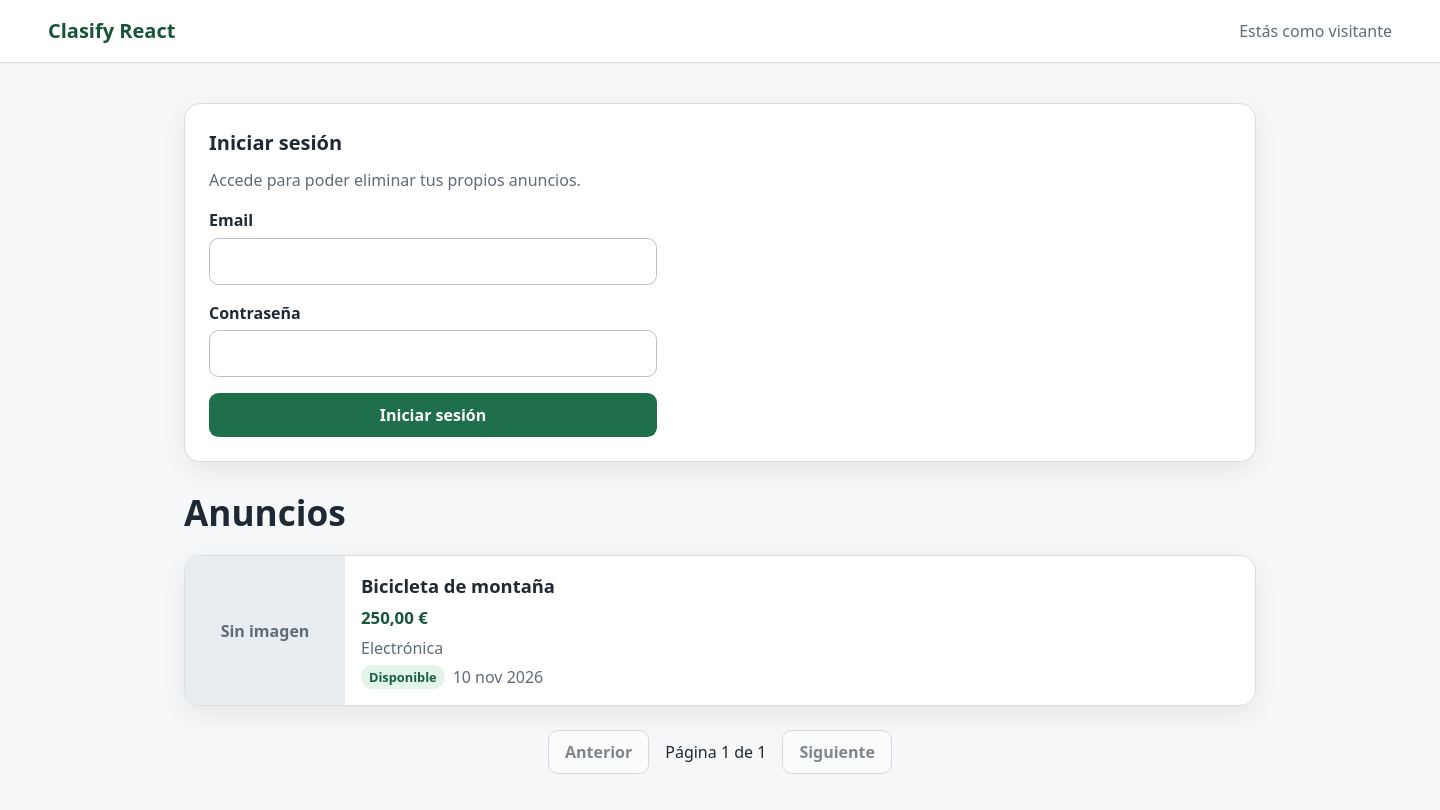
Test: sesión del frontend React › inicia sesión y guarda el token
This screenshot has width=1440, height=810.
Expected: the heading "Bicicleta de montaña" is shown, 361,573 -> 555,598
Type "ana@example.com" into the field labelled "Email" at (433,261), box 209,238 -> 657,285
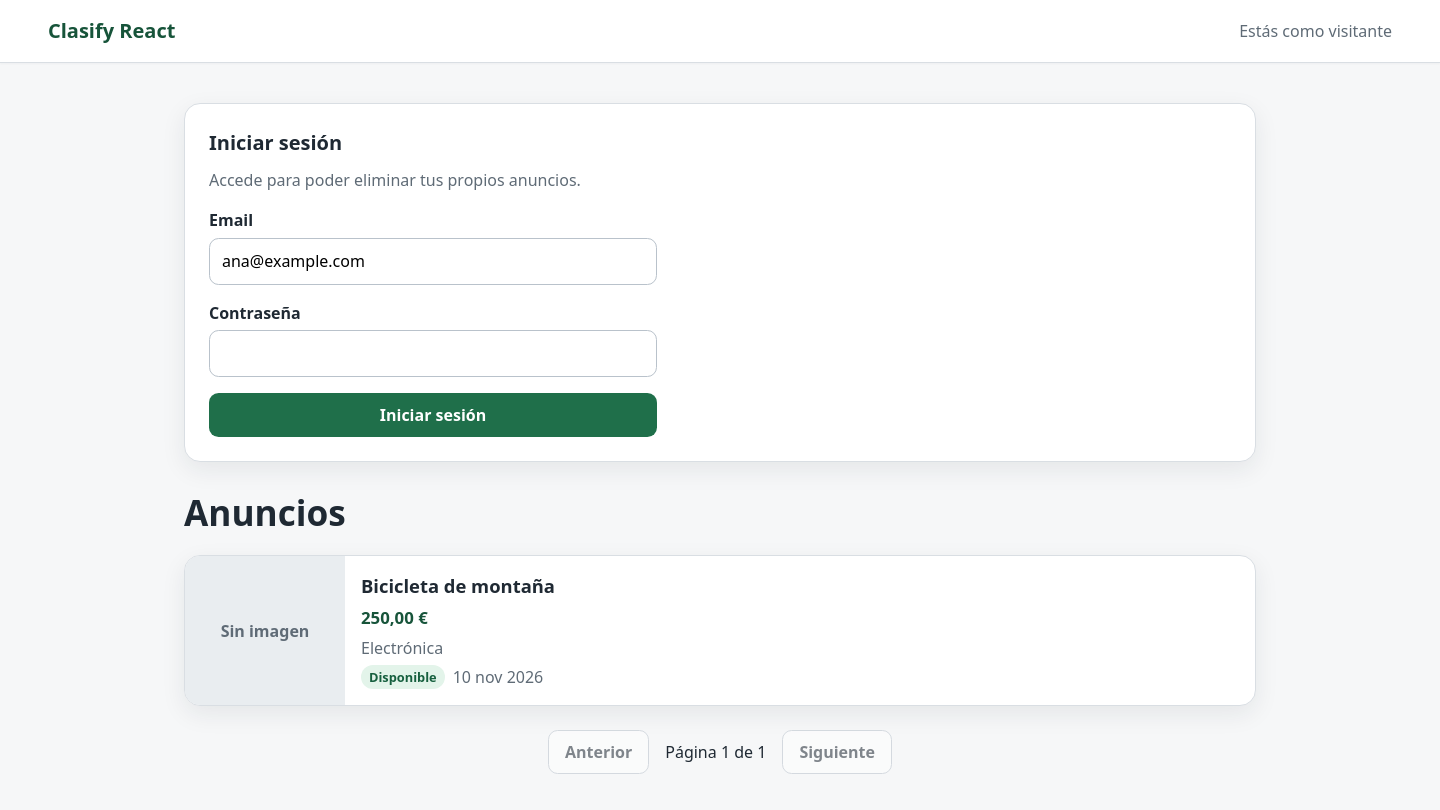
Type "Clasify123!" into the password field labelled "Contraseña" at (433,354), box 209,330 -> 657,377
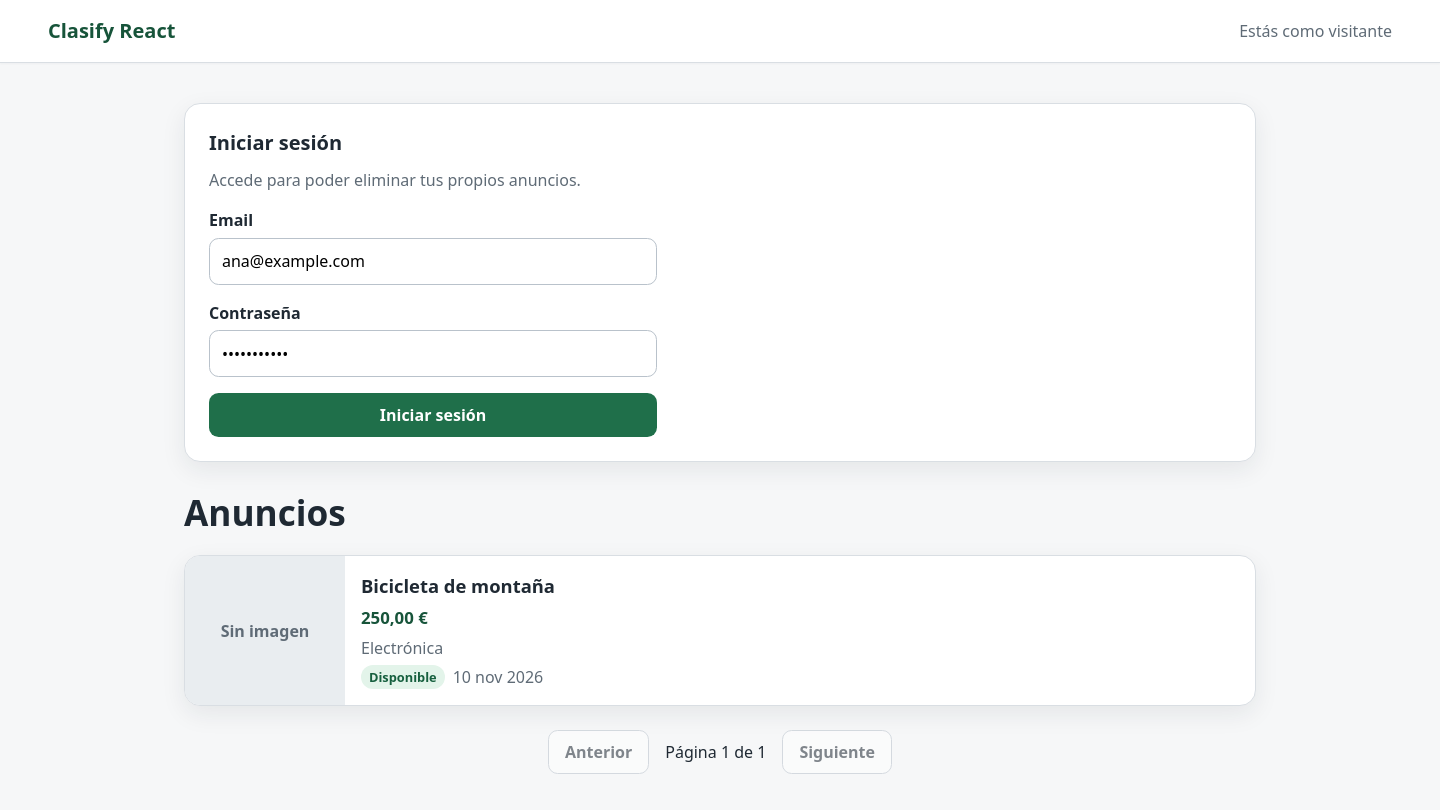
Click the button "Iniciar sesión" at (433,415), box 209,393 -> 657,437
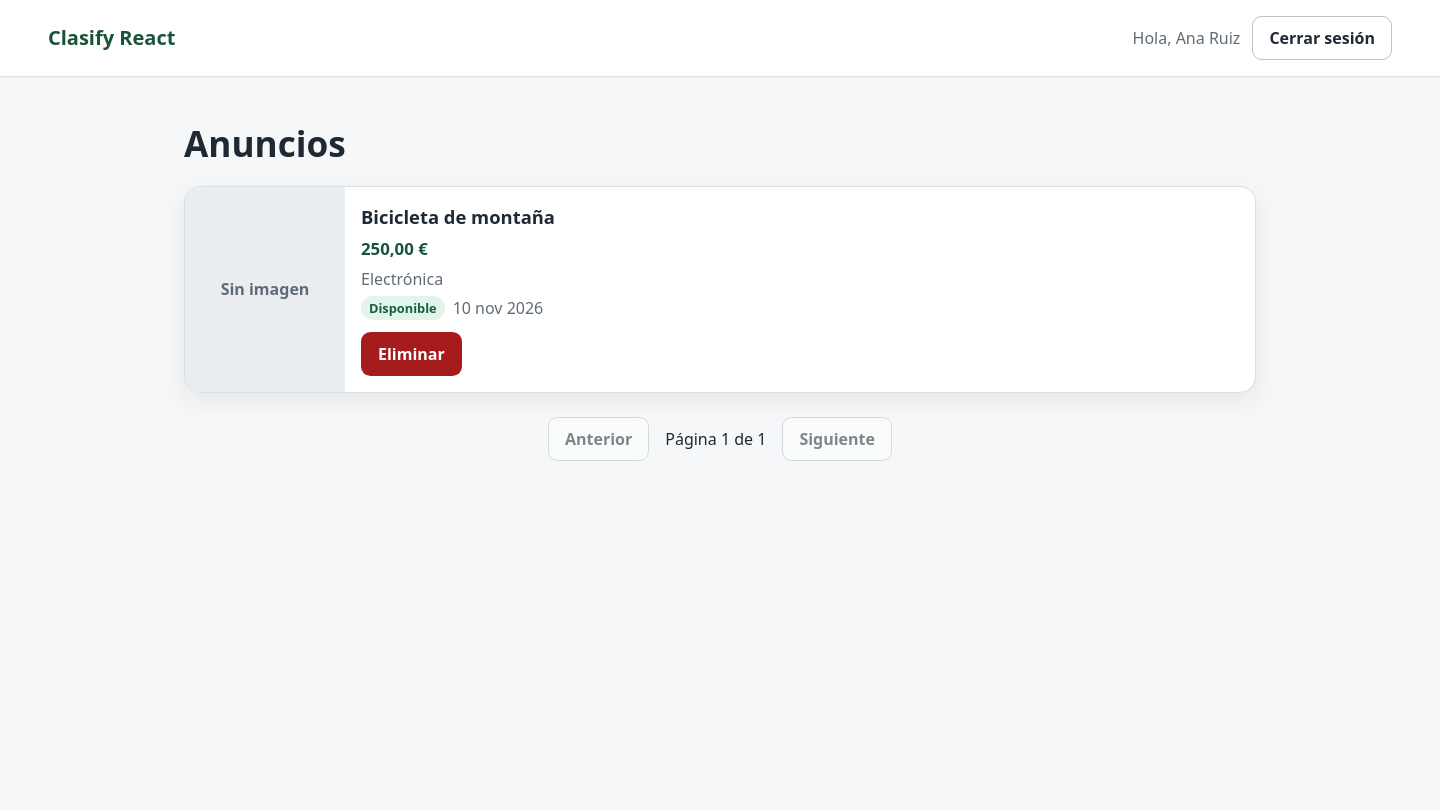
Now the text "Hola, Ana Ruiz" is shown, box 1132,26 -> 1240,50
